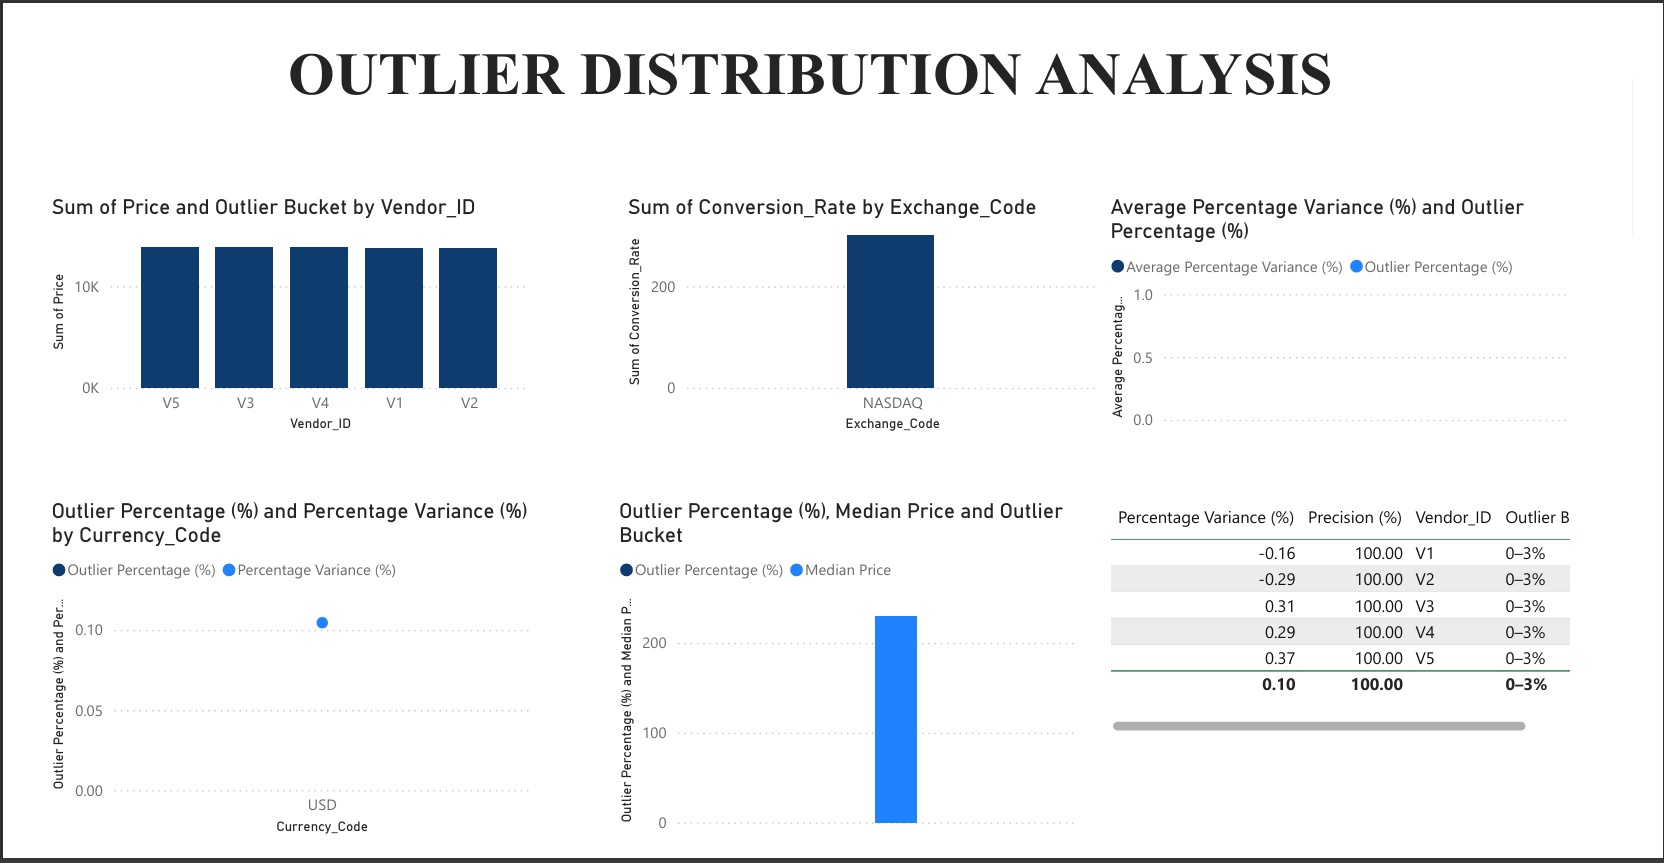

Layout of this report page (visuals, bound fields, positions):
{"tool":"powerbi","page":{"name":"Page 1","canvas":[1280,720],"ordinal":2},"visuals":[{"type":"textbox","box":[9.5,0,1224.4,70],"z":0},{"type":"columnChart","fields":{"Y":["Sum(cleaned_market_price_data.Price)"],"Category":["cleaned_market_price_data.Vendor_ID"]},"box":[9.5,128.8,392.8,195.6],"z":1},{"type":"stackedAreaChart","fields":{"Y":["cleaned_market_price_data.Outlier Percentage (%)","cleaned_market_price_data.Percentage Variance (%)"],"Category":["cleaned_market_price_data.Currency_Code"]},"box":[9.5,372.1,392.8,273.5],"z":2},{"type":"columnChart","fields":{"Category":["cleaned_market_price_data.Exchange_Code"],"Y":["Sum(cleaned_market_price_data.Conversion_Rate)"]},"box":[470.7,128.8,386.4,195.6],"z":3},{"type":"columnChart","fields":{"Y":["cleaned_market_price_data.Average Percentage Variance (%)","cleaned_market_price_data.Outlier Percentage (%)"]},"box":[857.1,128.8,376.9,195.6],"z":4},{"type":"lineClusteredColumnComboChart","fields":{"Y":["cleaned_market_price_data.Outlier Percentage (%)","cleaned_market_price_data.Median Price"]},"box":[464.3,372.1,375.3,273.5],"z":5},{"type":"tableEx","fields":{"Values":["cleaned_market_price_data.Percentage Variance (%)","cleaned_market_price_data.Precision (%)","cleaned_market_price_data.Vendor_ID","cleaned_market_price_data.Outlier Bucket"]},"box":[857.1,372.1,376.9,192.4],"z":6}]}

Visuals, with their boxes on the page's 1280x720 design canvas (x1, y1, x2, y2). These are canvas units, not pixel positions in the 1664x863 screenshot, which may show the page scaled, cropped or inside an application window:
textbox: box(10, 0, 1234, 70)
columnChart - Sum(cleaned_market_price_data.Price) x cleaned_market_price_data.Vendor_ID: box(10, 129, 402, 324)
stackedAreaChart - cleaned_market_price_data.Outlier Percentage (%) x cleaned_market_price_data.Percentage Variance (%): box(10, 372, 402, 646)
columnChart - cleaned_market_price_data.Exchange_Code x Sum(cleaned_market_price_data.Conversion_Rate): box(471, 129, 857, 324)
columnChart - cleaned_market_price_data.Average Percentage Variance (%) x cleaned_market_price_data.Outlier Percentage (%): box(857, 129, 1234, 324)
lineClusteredColumnComboChart - cleaned_market_price_data.Outlier Percentage (%) x cleaned_market_price_data.Median Price: box(464, 372, 840, 646)
tableEx - cleaned_market_price_data.Percentage Variance (%) x cleaned_market_price_data.Precision (%): box(857, 372, 1234, 564)
